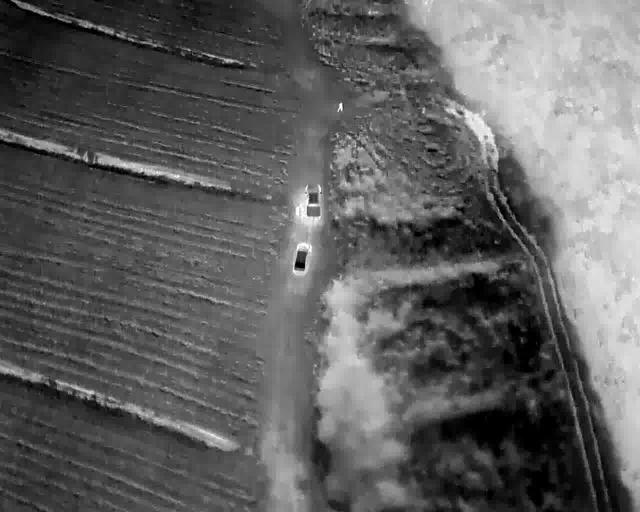car: (304, 182, 322, 218), (294, 242, 310, 276)
person: (336, 101, 344, 112), (295, 207, 299, 215)
